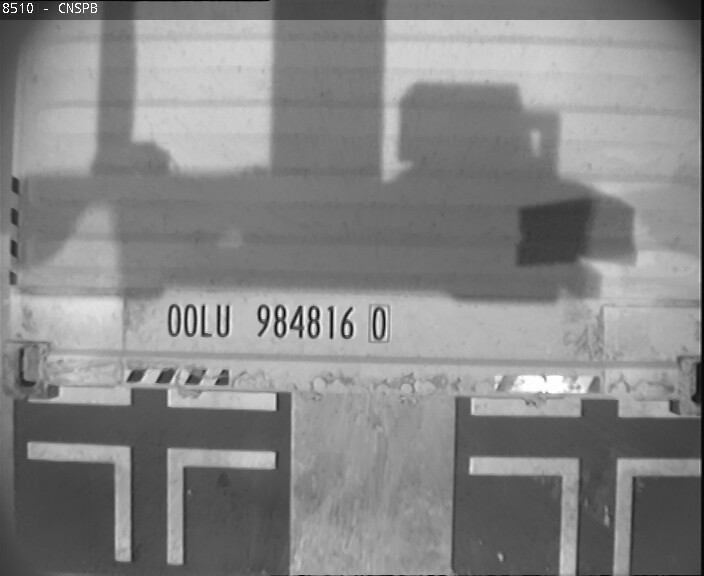groundmarker_1: (26, 439, 273, 562), (468, 458, 704, 576)
